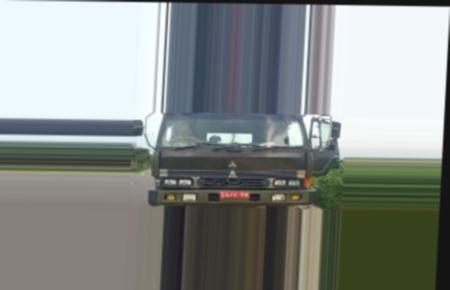License_Plate: (219, 189, 251, 200)
